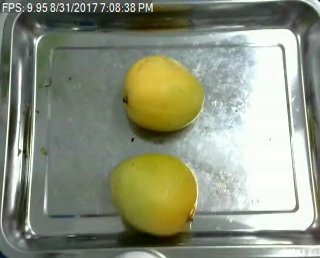Mango: (109, 151, 197, 234), (126, 57, 202, 129)
